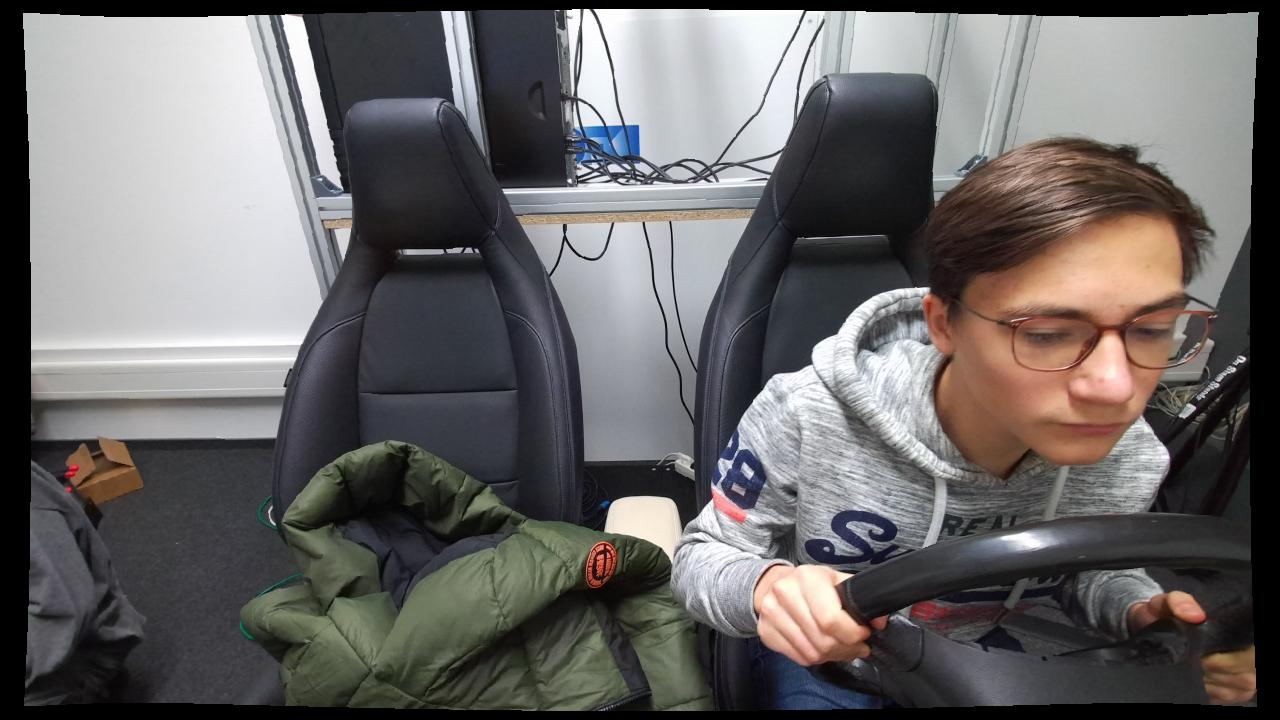Distracted: (671, 134, 1225, 715)
